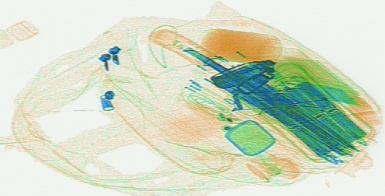drinkbottle: (194, 26, 281, 64)
powerbank: (255, 72, 371, 159)
umbrella: (149, 22, 365, 166)
